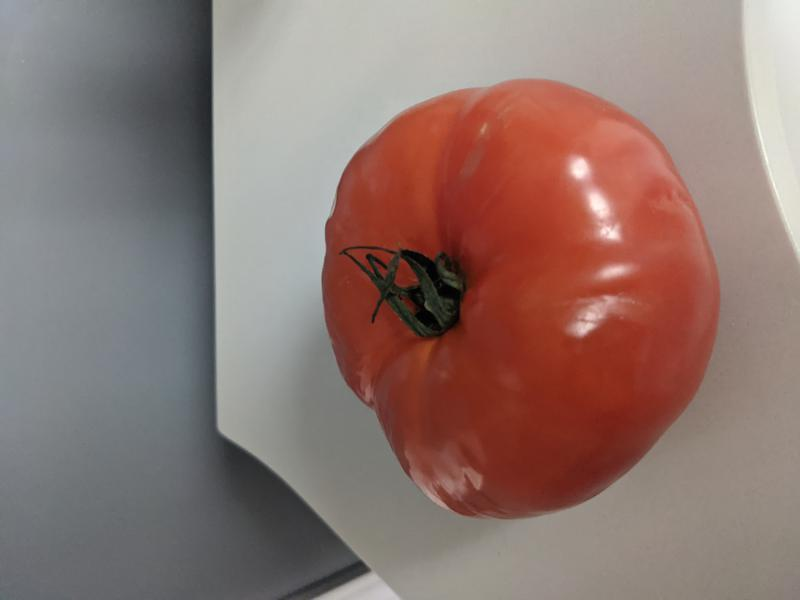tomato: (321, 79, 723, 521)
